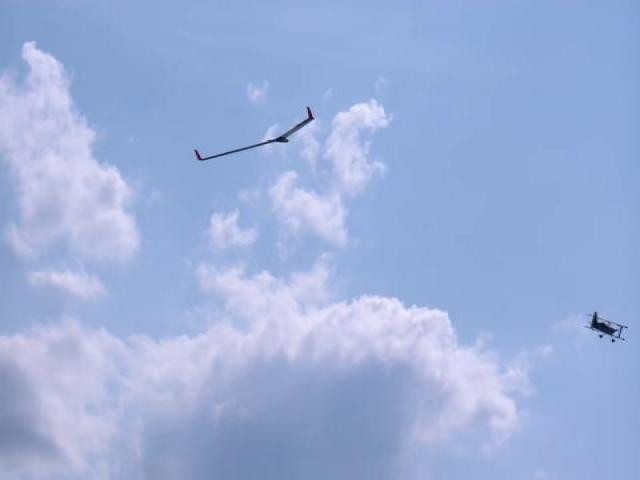flying wing: (194, 103, 315, 164)
